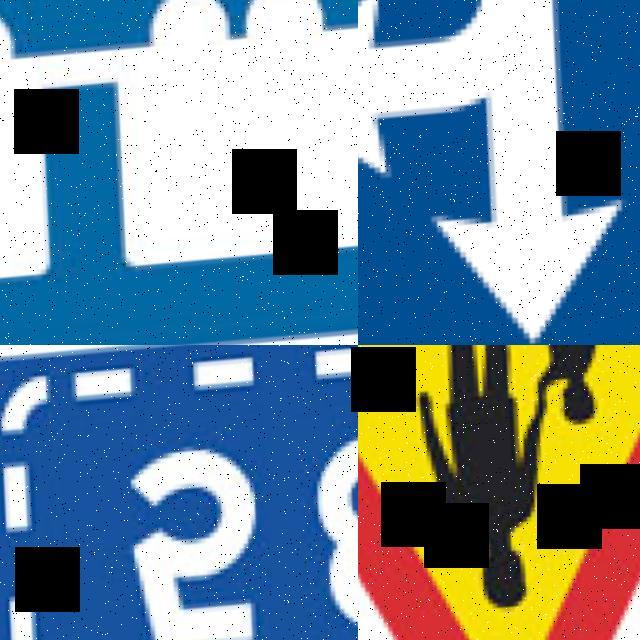142: (358, 345, 640, 640)
172: (0, 345, 358, 640)
69: (0, 0, 358, 345)
Turn left or straight ahead: (358, 0, 640, 345)
